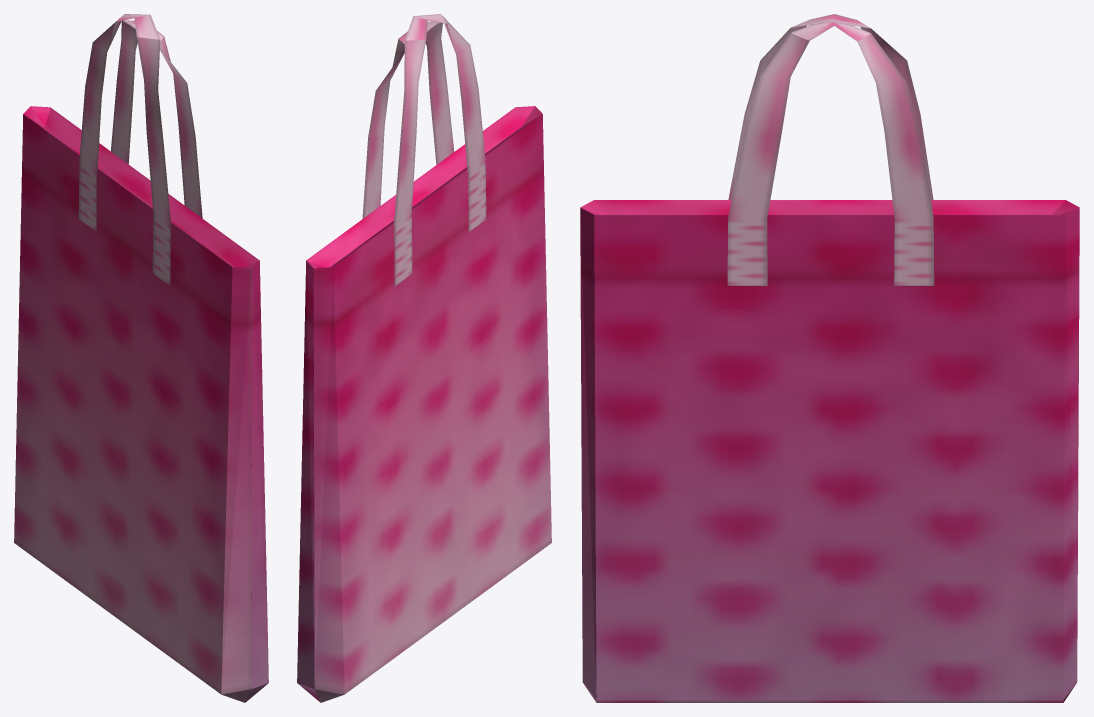
Rendered from bag_typeB2.FBX.
The picture shows the model from 3 angles, left to right: view 1: azimuth 30°, elevation 25°; view 2: azimuth 150°, elevation 25°; view 3: azimuth 270°, elevation 25°; orthographic projection. The views are drawn at different scales.
Visible parts, largest first — view 1: bag_typeB2; view 2: bag_typeB2; view 3: bag_typeB2.
Boxes of the visible parts, box(x1,y1,x2,y2) form: bag_typeB2: box(14, 14, 268, 702); bag_typeB2: box(297, 14, 551, 702); bag_typeB2: box(580, 14, 1079, 702).
Bounding box in the file's own units: 3.46 × 42.36 × 27.94.
